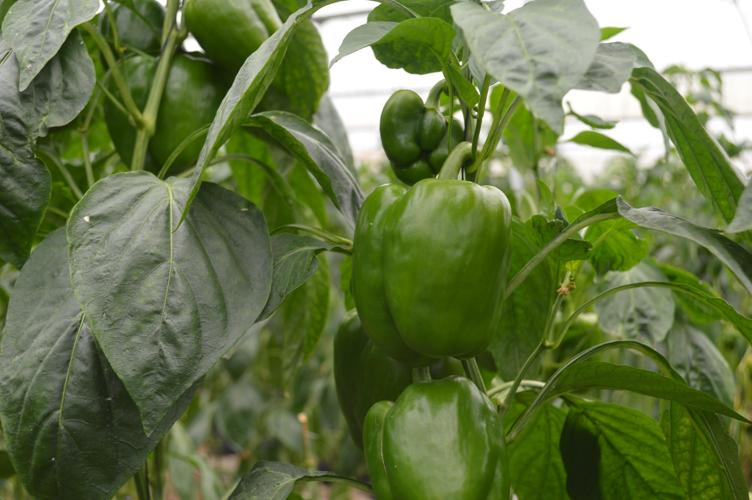BellPepper: (354, 185, 510, 362), (369, 376, 513, 498), (99, 52, 223, 179), (323, 307, 401, 444), (381, 89, 465, 184), (187, 3, 281, 77)
